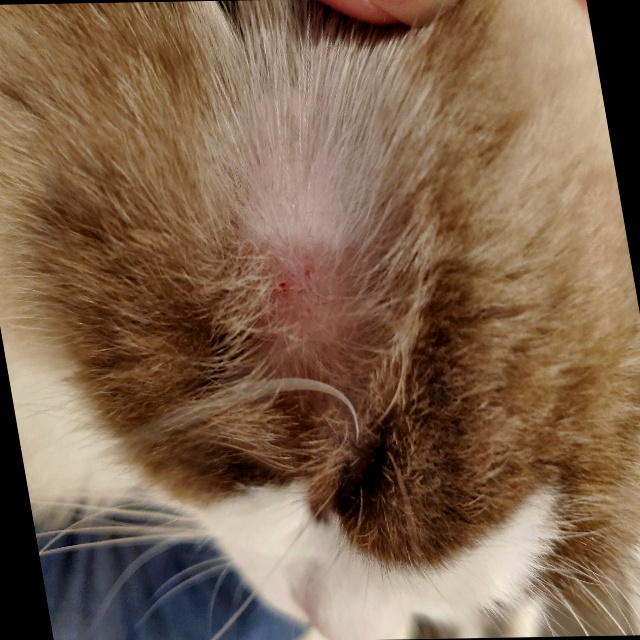ringworm: (248, 240, 404, 354)
